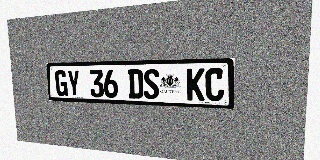3: (89, 70, 104, 97)
6: (103, 69, 118, 98)
C: (205, 68, 224, 101)
D: (128, 69, 143, 99)
G: (55, 70, 68, 96)
K: (187, 68, 205, 101)
S: (143, 69, 159, 99)
Y: (67, 70, 81, 97)
